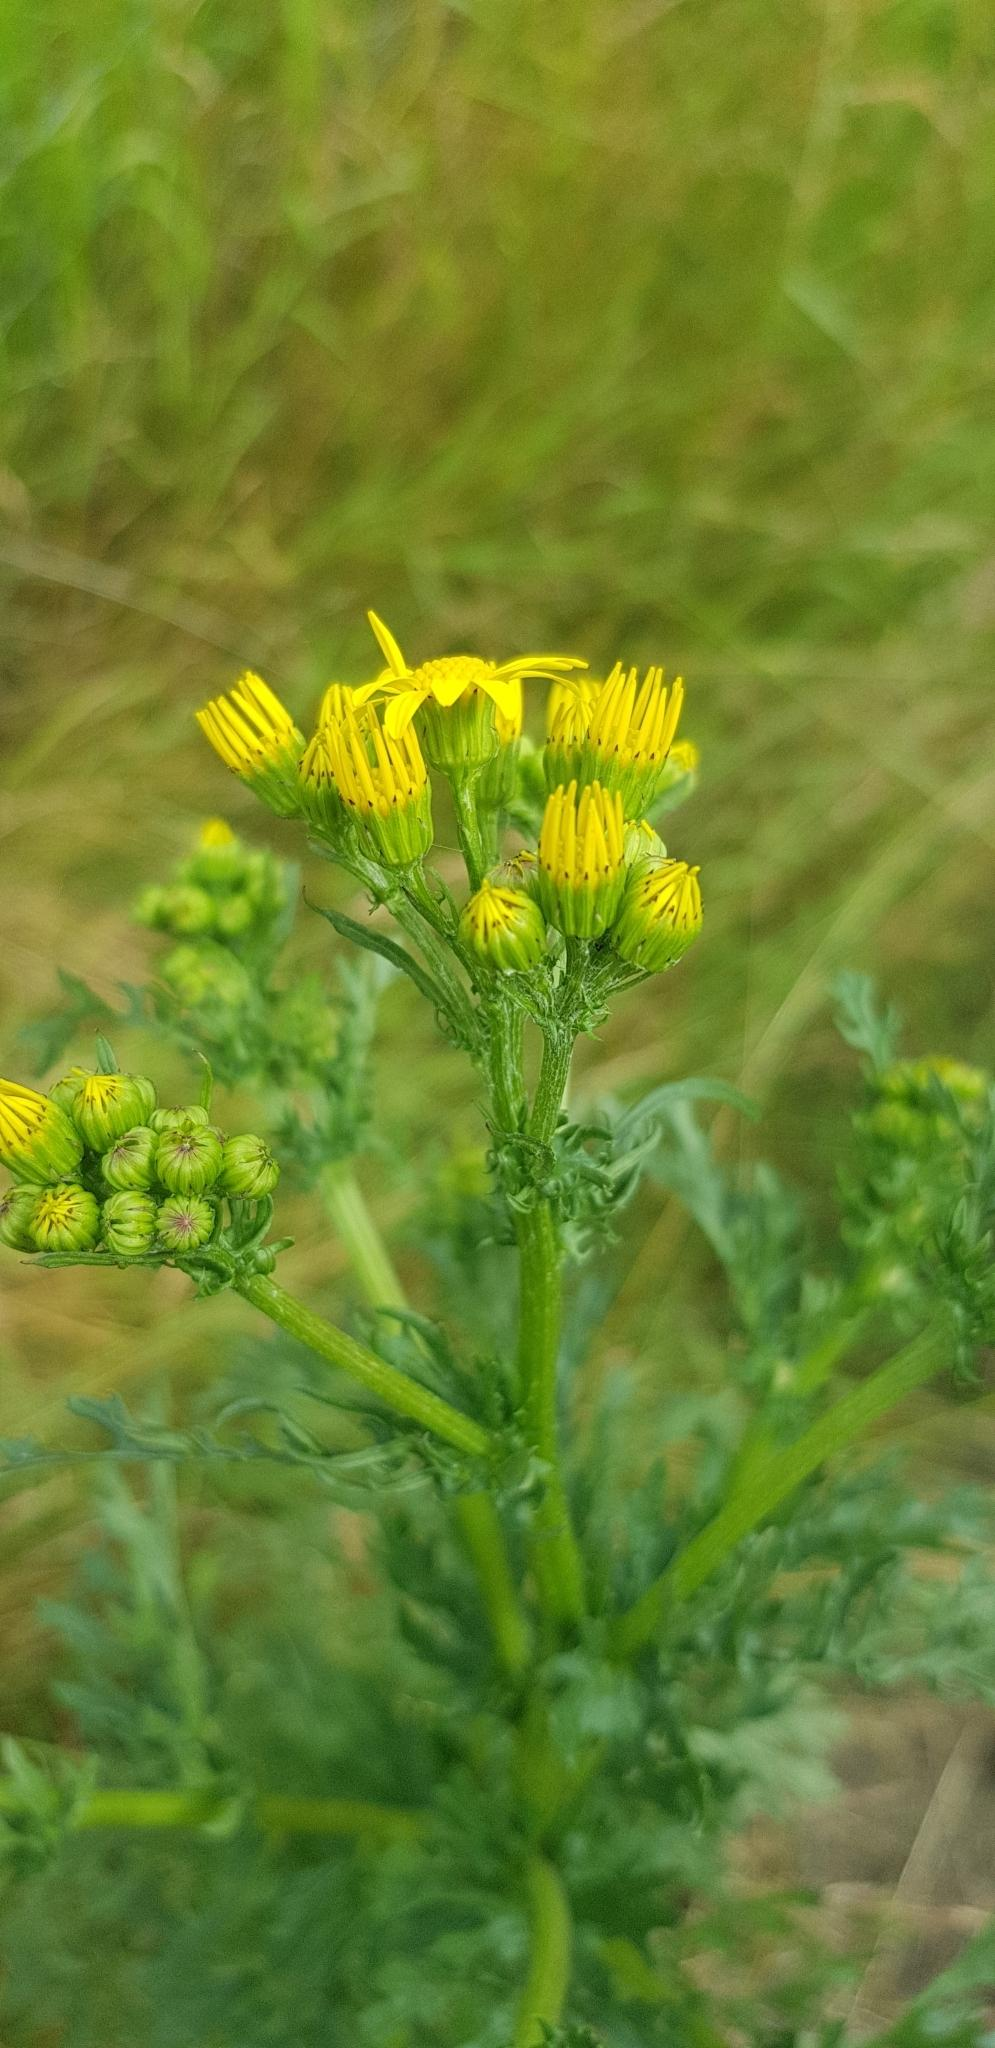Jacobaea vulgaris: (0, 630, 995, 2048)
